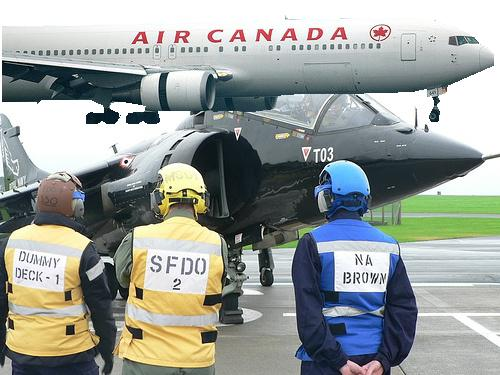tampered: (3, 16, 494, 124)
